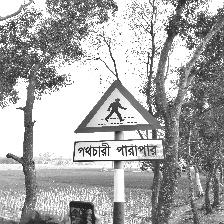Pedestrian-crossing: (73, 79, 164, 163)
